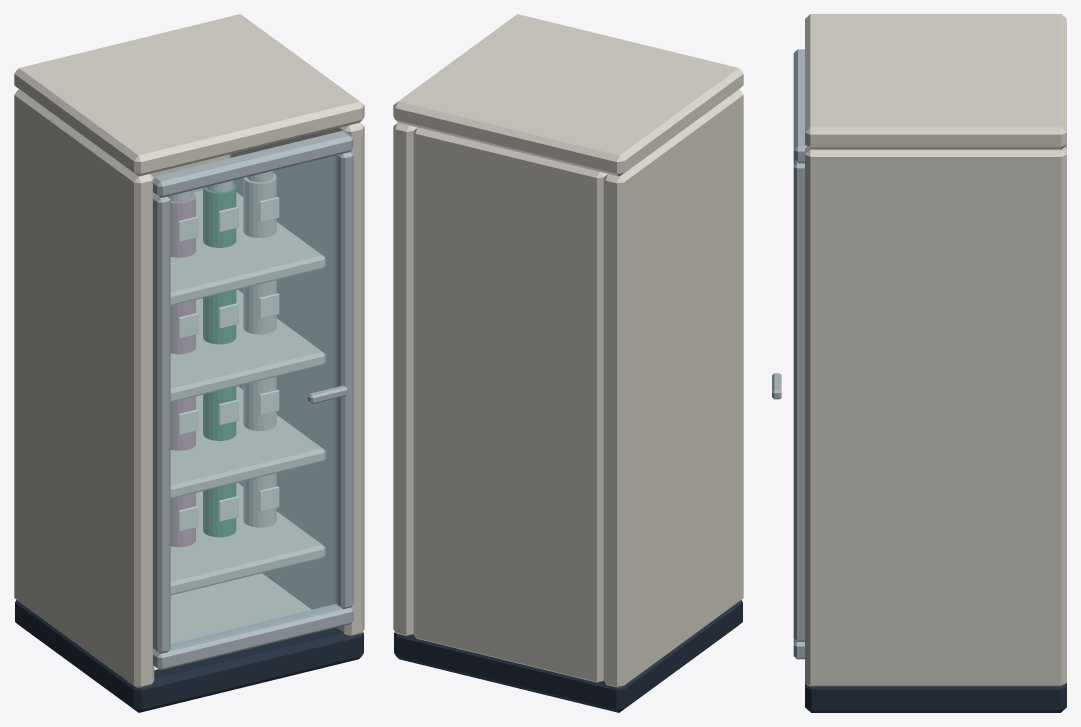
File: retail_02.glb
3 renders of one model, left to right at view 1: azimuth 30°, elevation 25°; view 2: azimuth 150°, elevation 25°; view 3: azimuth 270°, elevation 25°, orthographic. The views are drawn at different scales.
Visible parts, largest first — view 1: Side (×2), InsetPanel, Top, Shelf (×4), GlazedSideRail (×2), Bottle (×12), Base, Bottom, DoorPanel, GlazedTopRail; view 2: Back, Side (×2), Top, Base; view 3: Side, Top, Base, GlazedSideRail, GlazedTopRail.
Boxes of the visible parts, x1,y1,x2,y2 form: Side (×2): (14, 89, 364, 687); InsetPanel: (168, 155, 339, 648); Top: (14, 14, 364, 176); Shelf (×4): (170, 190, 325, 595); GlazedSideRail (×2): (153, 152, 353, 653); Bottle (×12): (170, 173, 276, 547); Base: (15, 575, 363, 712); Bottom: (154, 573, 311, 669); DoorPanel: (153, 604, 353, 670); GlazedTopRail: (153, 130, 353, 197); Back: (413, 127, 607, 682); Side (×2): (393, 89, 743, 687); Top: (393, 14, 743, 176); Base: (394, 600, 742, 712); Side: (805, 147, 1066, 686); Top: (805, 14, 1066, 149); Base: (805, 683, 1066, 712); GlazedSideRail: (793, 161, 804, 641); GlazedTopRail: (793, 49, 806, 163).
Size of the model in its own units: 0.8 by 1.85 by 0.844.
